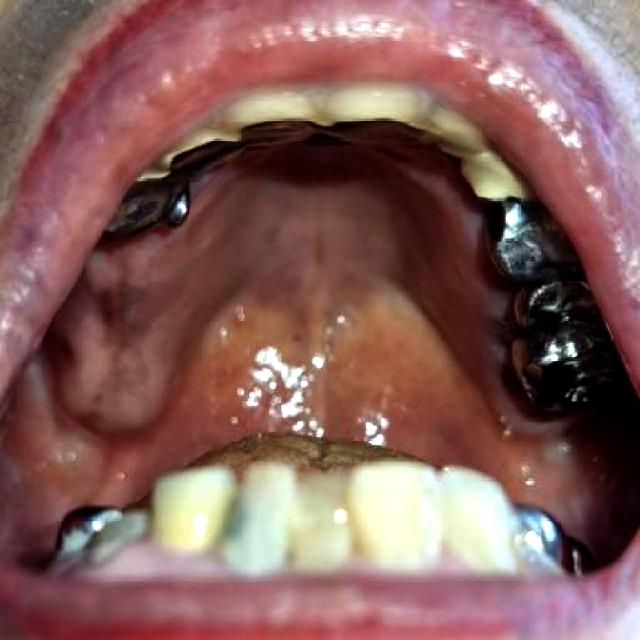Plaque: (198, 496, 254, 550)
